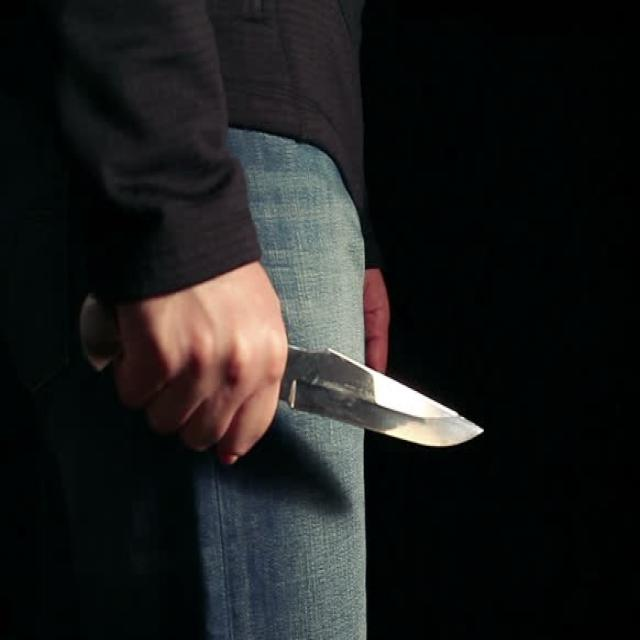knife: (282, 322, 496, 476)
